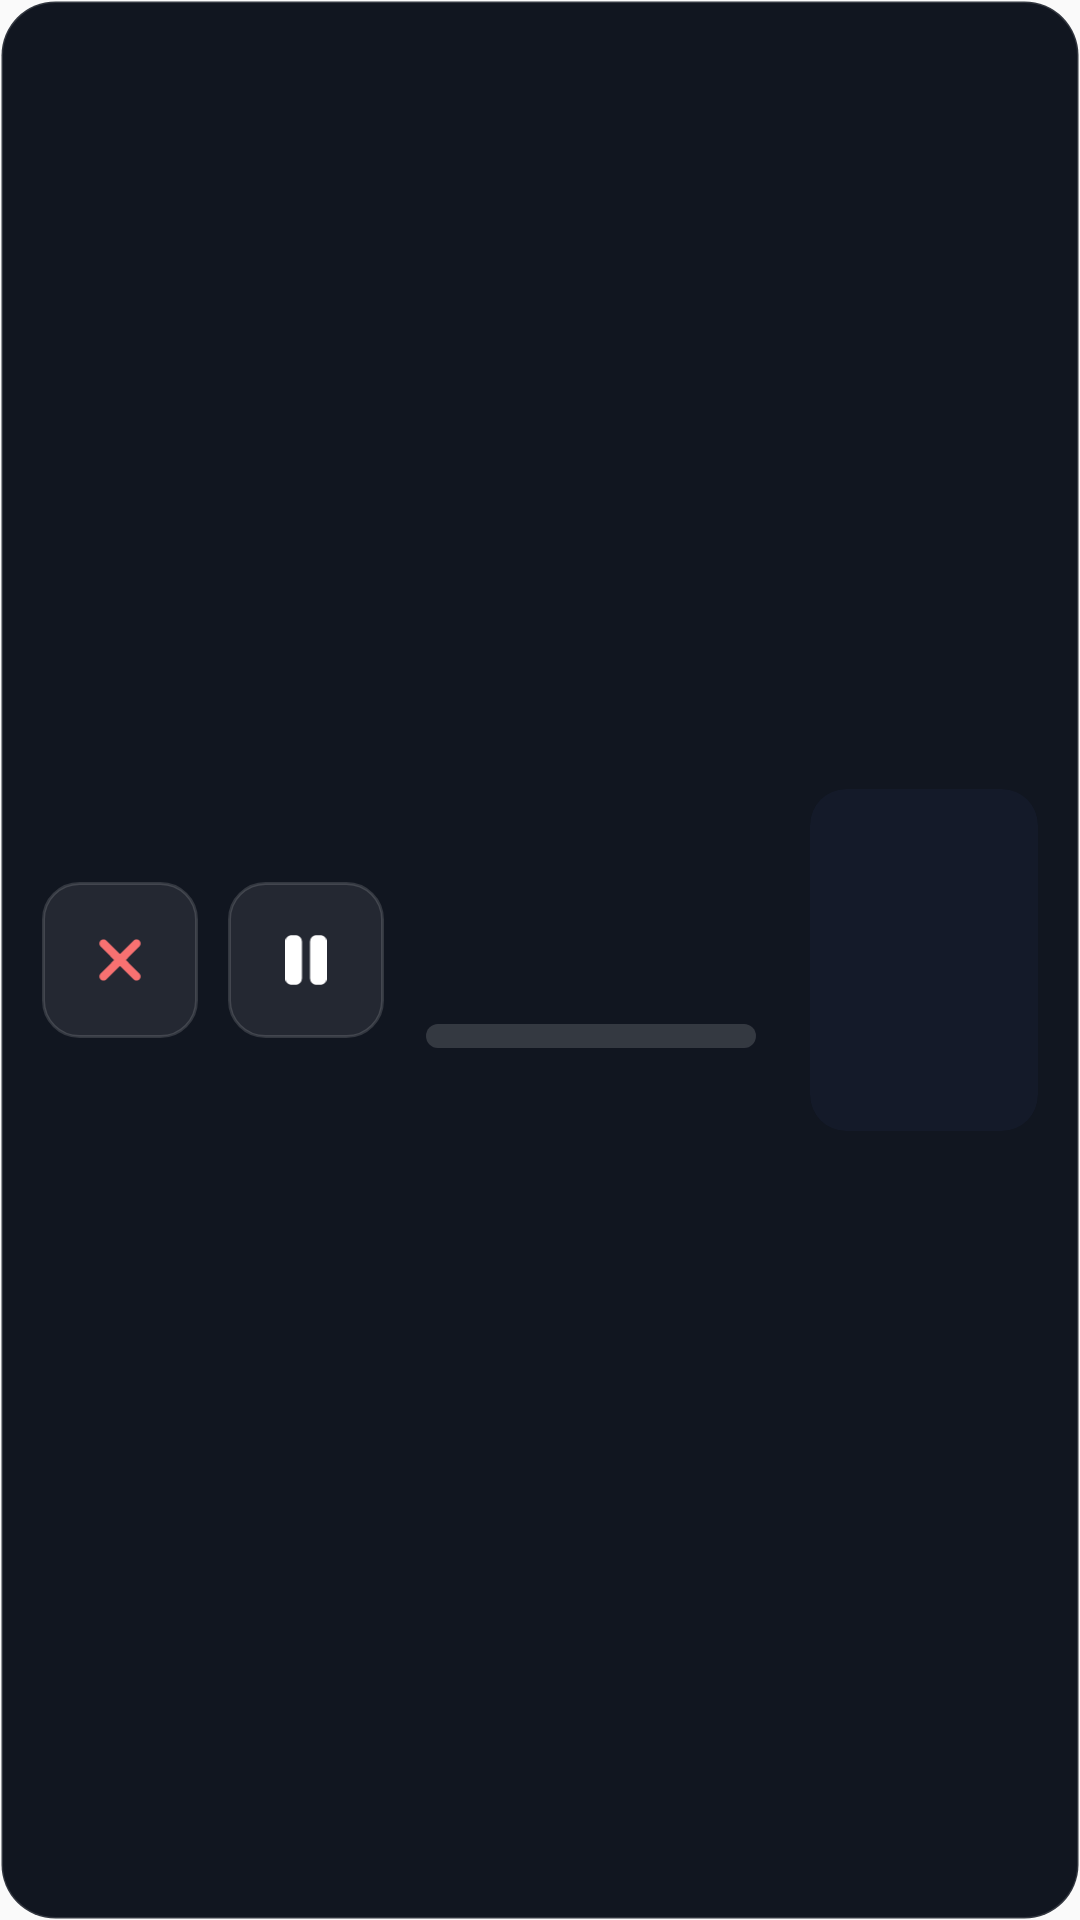

Where icons sit on this 1080x1920 app screen, as (x1, y1, x2, y2):
pause: (228, 882, 384, 1038)
إلغاء: (42, 882, 198, 1038)
